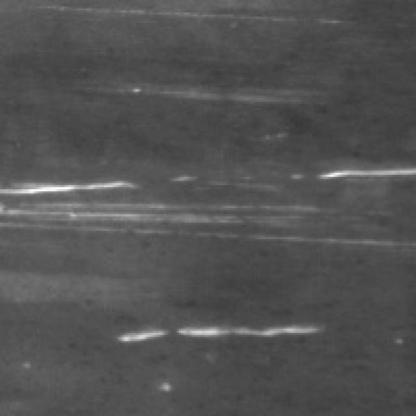scratches: (6, 179, 408, 239), (112, 314, 325, 350), (314, 156, 414, 183)
